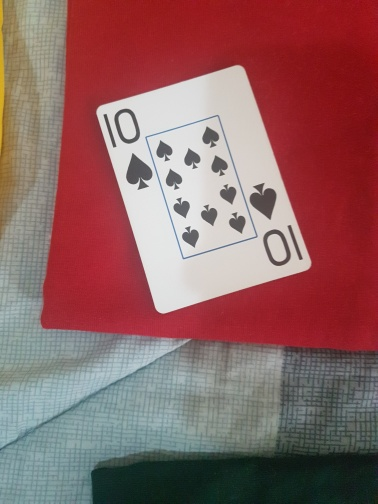ten: (95, 64, 313, 315)
